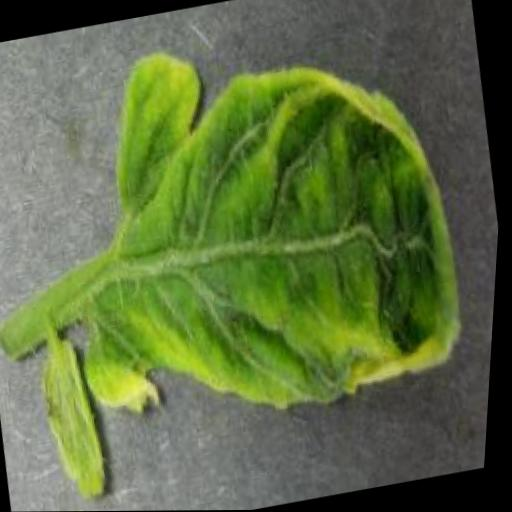Yellow Leaf Curl Virus: (34, 1, 493, 444), (24, 325, 127, 509)
